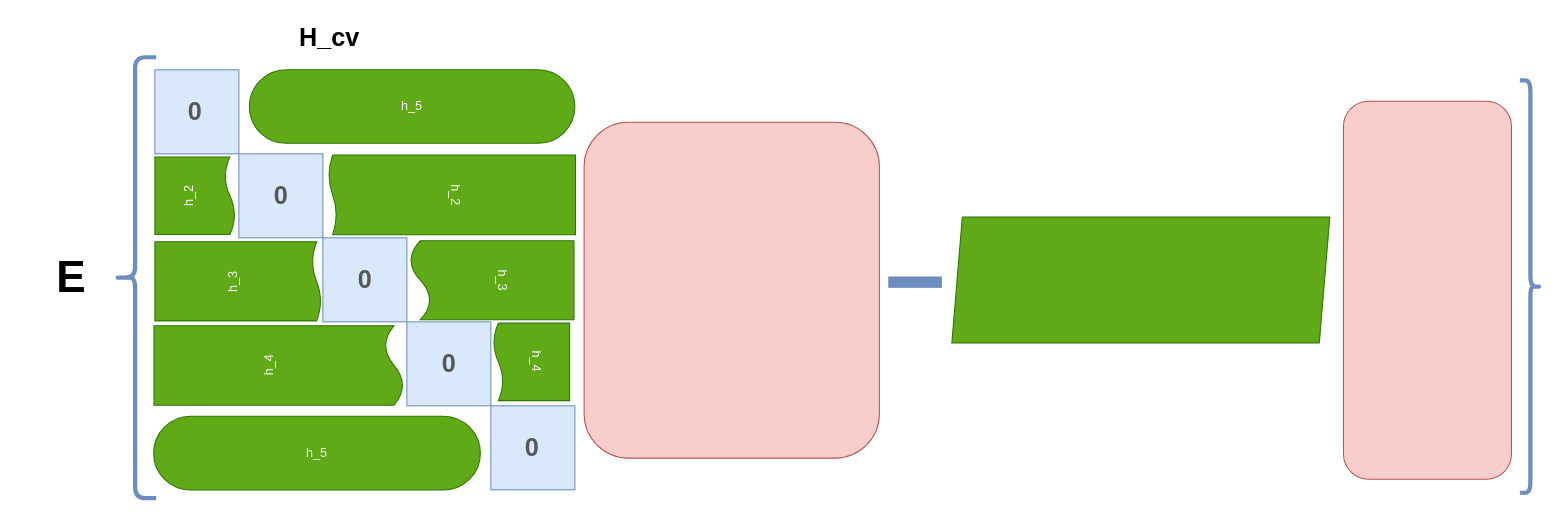
This 1560x519 diagram has some shape labels left out. The box of each missing label's shape, as (x1, y1, x2, y2) in pixels:
Cov(y, y): (583, 121, 879, 458)
Cov(y_tr, y_te): (1342, 100, 1511, 479)
h_te: (951, 216, 1330, 343)
